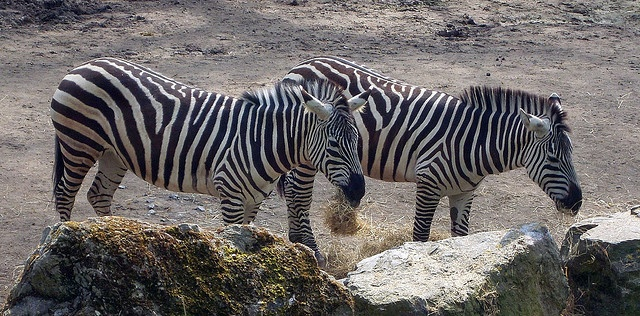zebra: (48, 56, 371, 248), (278, 57, 582, 243)
